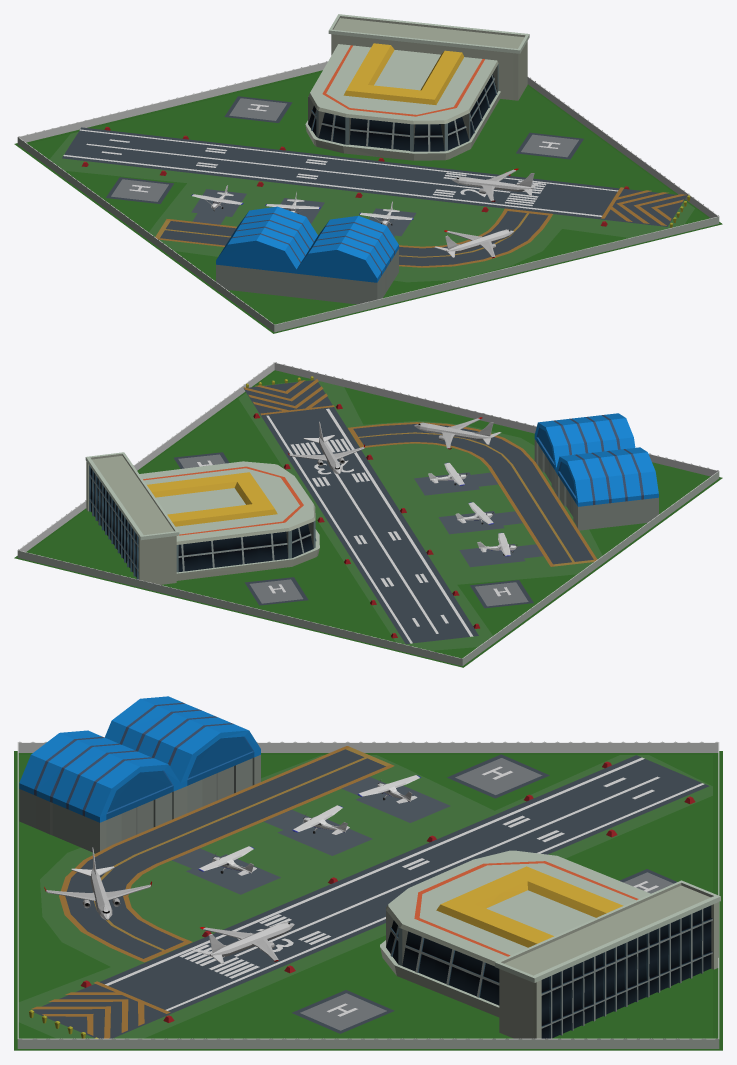
3 renders of one model, top to bottom at view 1: azimuth 30°, elevation 25°; view 2: azimuth 150°, elevation 25°; view 3: azimuth 270°, elevation 25°, orthographic. The views are drawn at different scales.
Parts seen in each view (by area): view 1: o-8; view 2: o-8; view 3: o-8.
Part boxes in pixels (x1,y1,x2,y2): o-8: (14,14,722,333); o-8: (14,362,722,667); o-8: (14,696,722,1050).
Bounding box in the file's own units: 0.9793 × 0.1091 × 0.9793.
